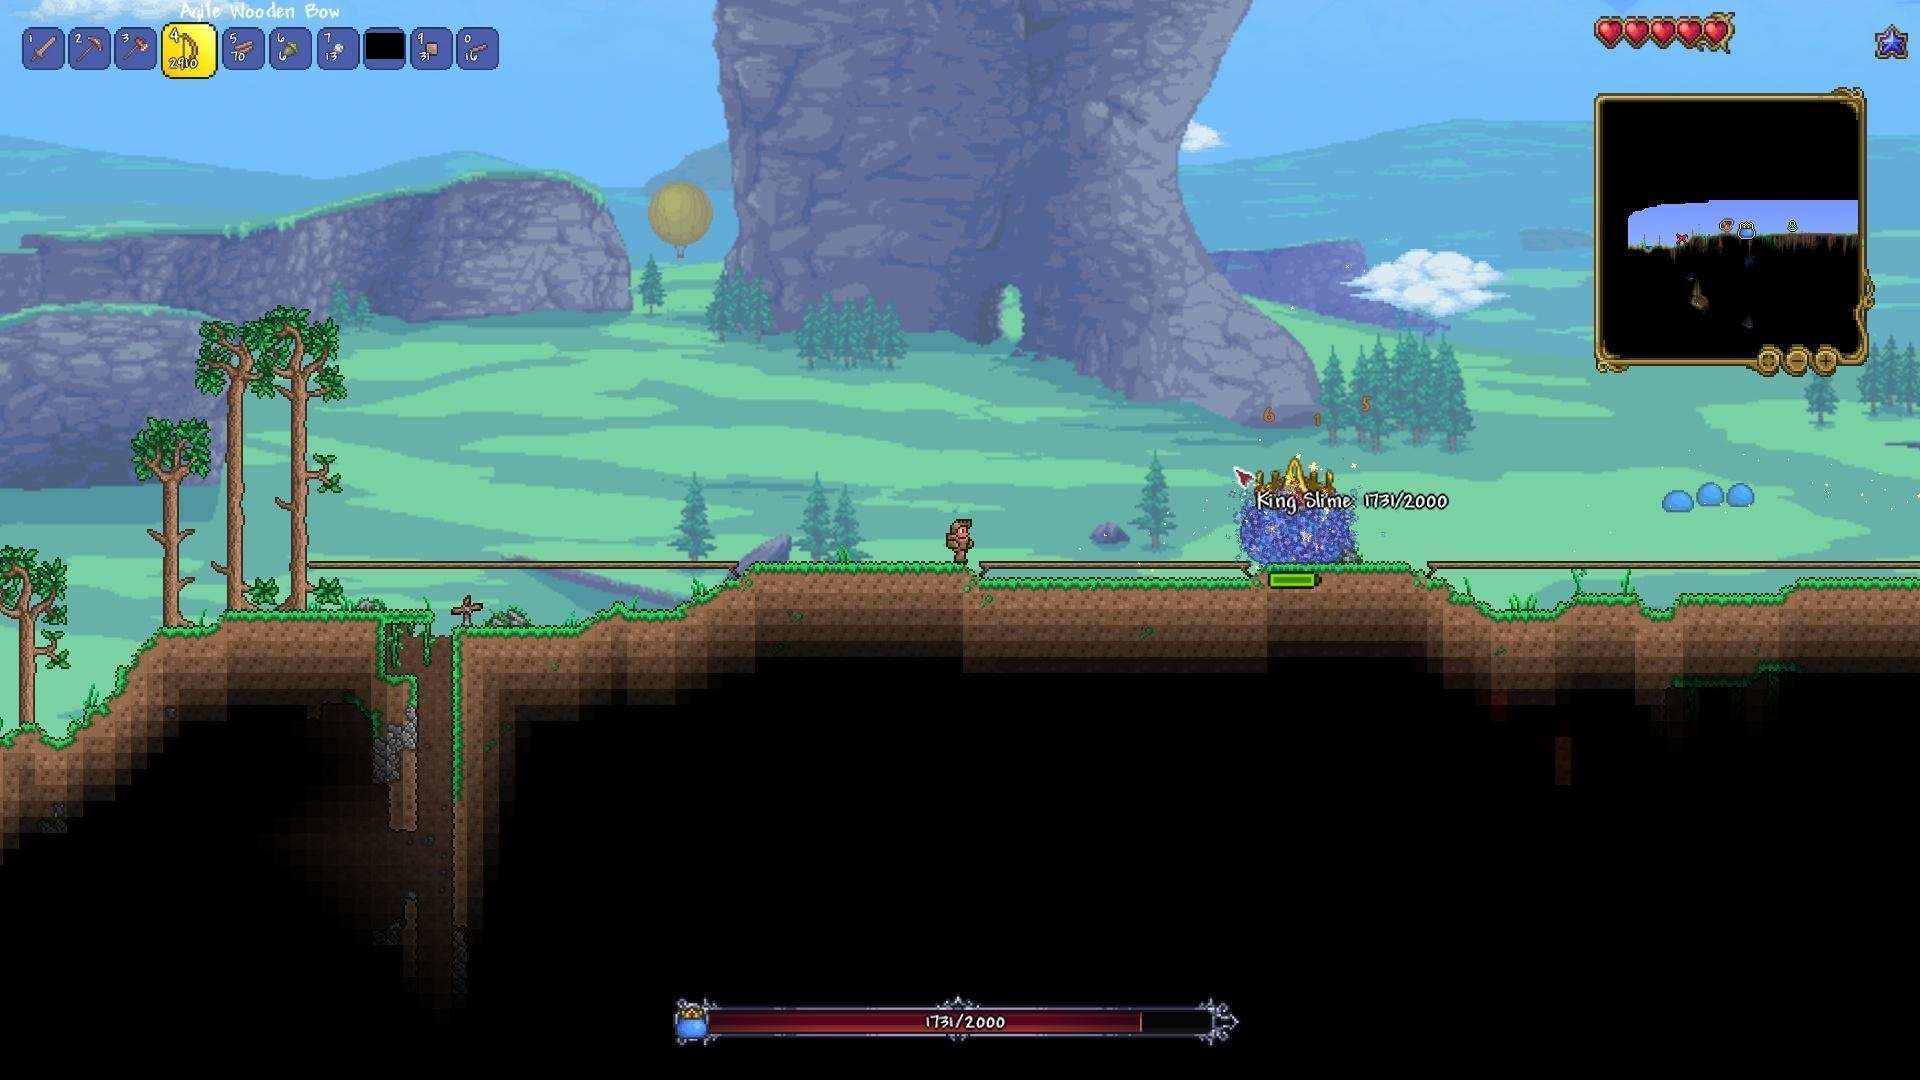slime: (1662, 485, 1697, 513), (1695, 480, 1729, 508), (1725, 481, 1756, 508)
wood: (228, 33, 260, 63)
